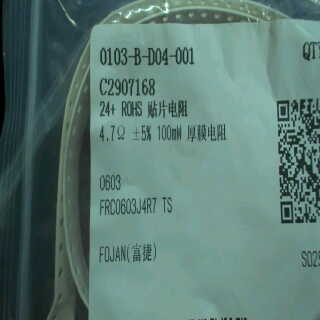4.7R: (96, 121, 128, 147)
